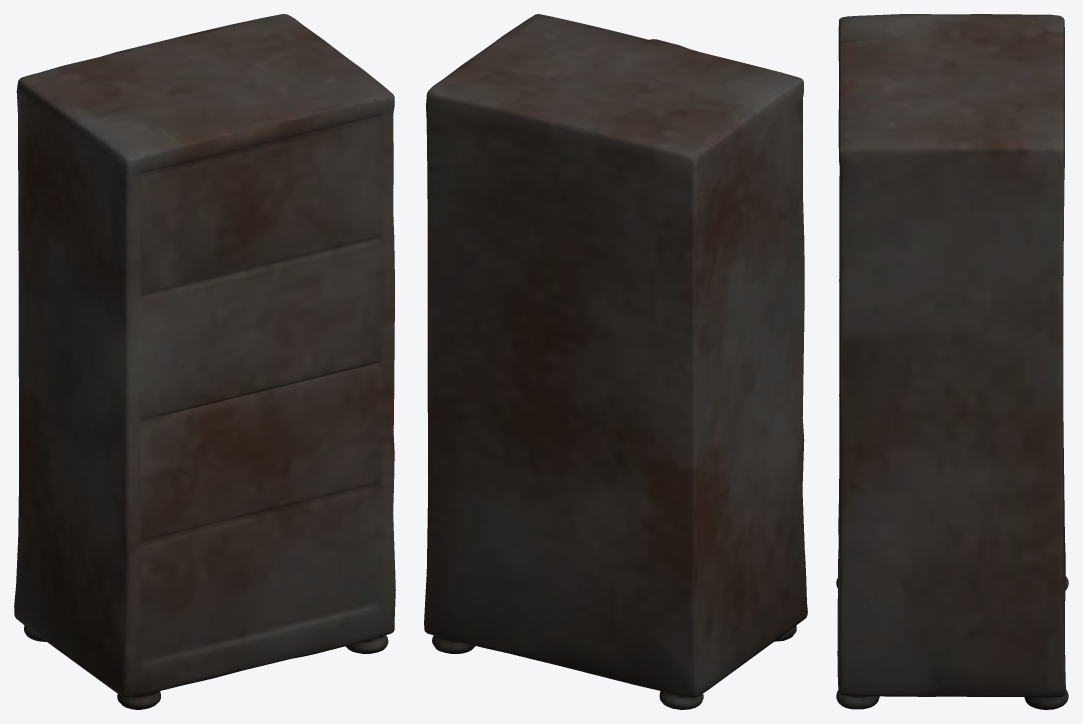
The model's file is sturdy-iron-filing-cabinet-v001.glb.
3 views of the same model, side by side, from view 1: azimuth 30°, elevation 25°; view 2: azimuth 150°, elevation 25°; view 3: azimuth 270°, elevation 25° (orthographic).
Parts seen in each view (by area): view 1: sturdy-iron-filing-cabinet; view 2: sturdy-iron-filing-cabinet; view 3: sturdy-iron-filing-cabinet.
Boxes of the visible parts, box(x1,y1,x2,y2) form: sturdy-iron-filing-cabinet: box(14, 14, 395, 709); sturdy-iron-filing-cabinet: box(424, 14, 807, 709); sturdy-iron-filing-cabinet: box(836, 14, 1068, 709).
Size of the model in its own units: 0.6364 by 1.24 by 0.4596.
Materials: 1 (1 with a texture image).
